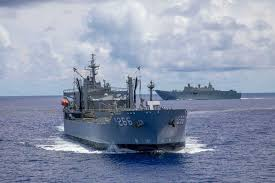tau_muctieu: (55, 59, 190, 151), (154, 73, 251, 100)
